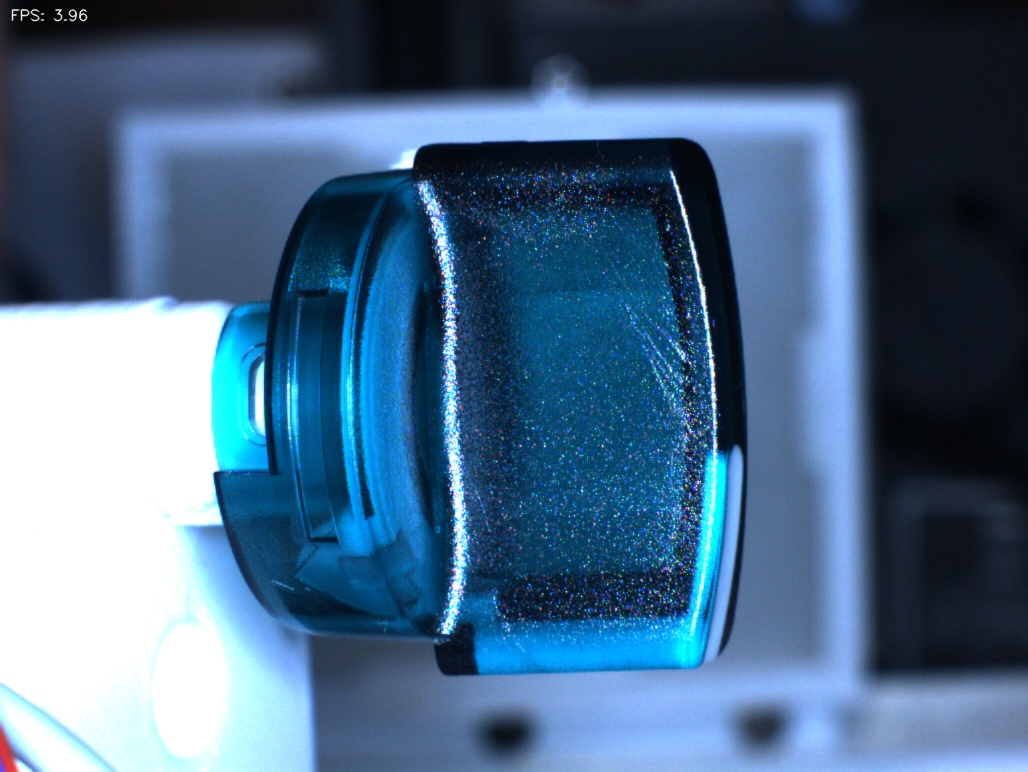Givrage: (603, 279, 714, 458)
